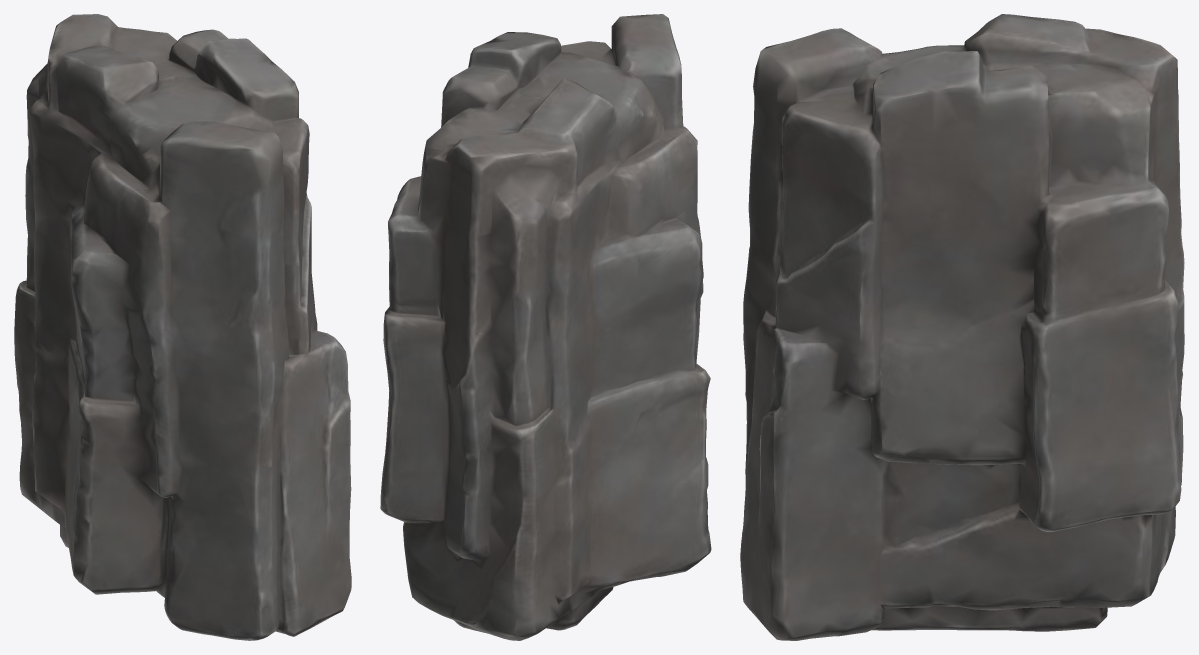
The model's file is SM_Vertical_Cliff_01.glb.
3 renders of one model, left to right at view 1: azimuth 30°, elevation 25°; view 2: azimuth 150°, elevation 25°; view 3: azimuth 270°, elevation 25°, orthographic. The views are drawn at different scales.
Visible parts, largest first — view 1: SM_Vertical_Cliff_01; view 2: SM_Vertical_Cliff_01; view 3: SM_Vertical_Cliff_01.
Part boxes in pixels (box(x1,y1,x2,y2)): SM_Vertical_Cliff_01: box(14, 14, 351, 640); SM_Vertical_Cliff_01: box(380, 14, 711, 640); SM_Vertical_Cliff_01: box(740, 14, 1184, 640).
Size of the model in its own units: 3.23 by 6.75 by 4.68.
Materials: 1 (1 with a texture image).
